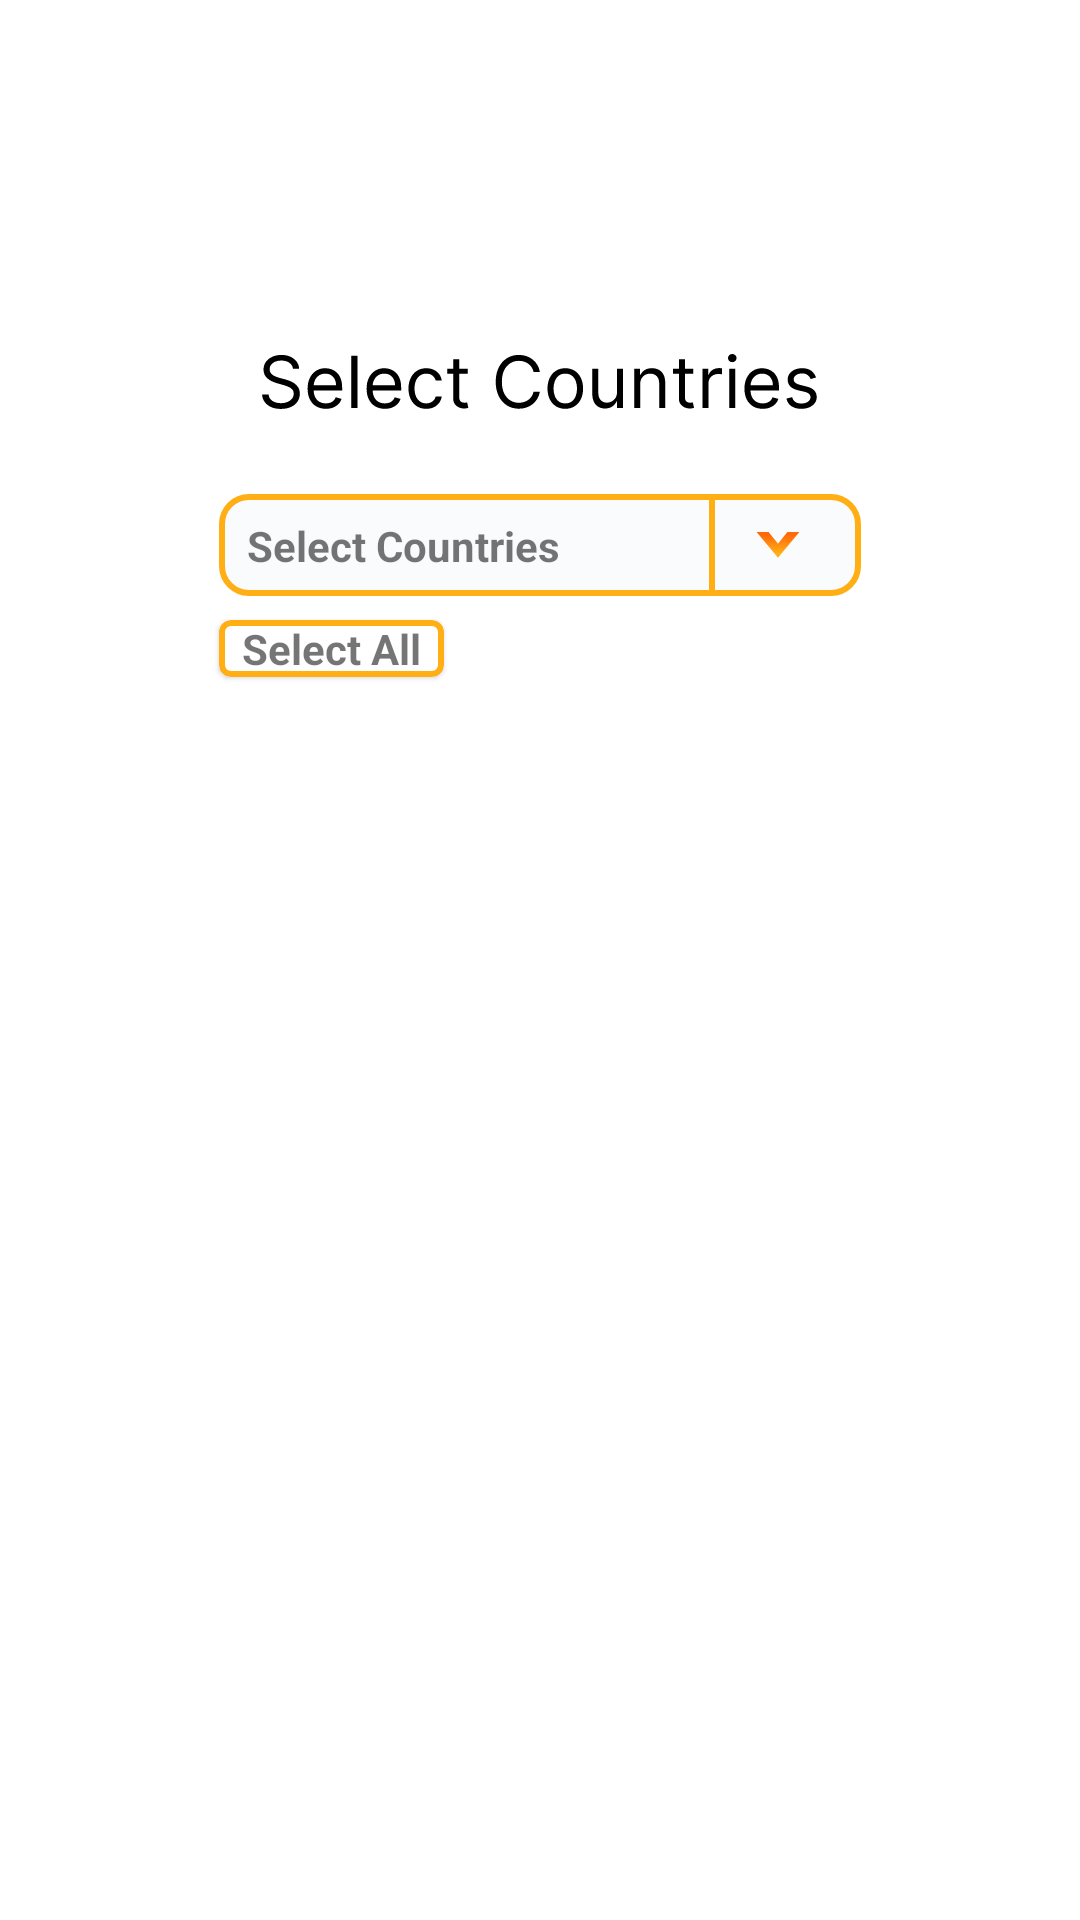

Where icons sit on this 1080 x 1920 app screen, as (x1,y1,x2,y2):
down: (757,532,799,558)
